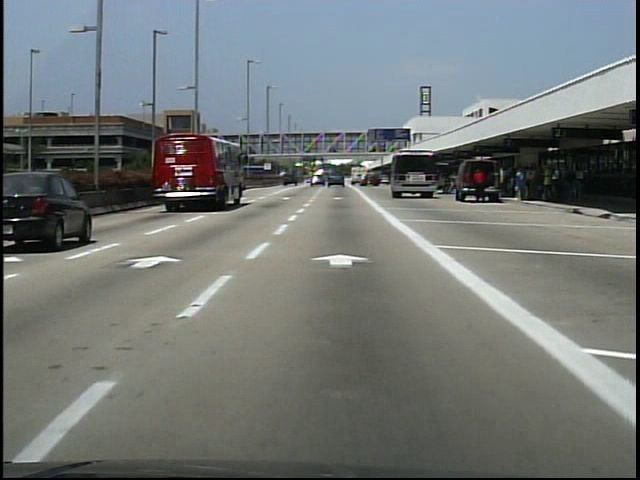person: (473, 164, 489, 205)
